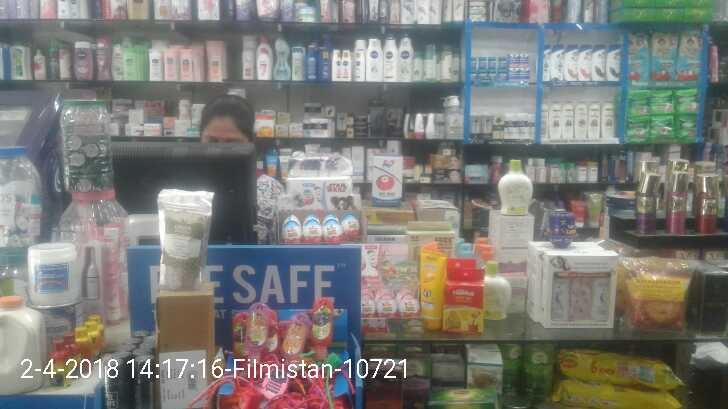vicks: (469, 51, 531, 82)
